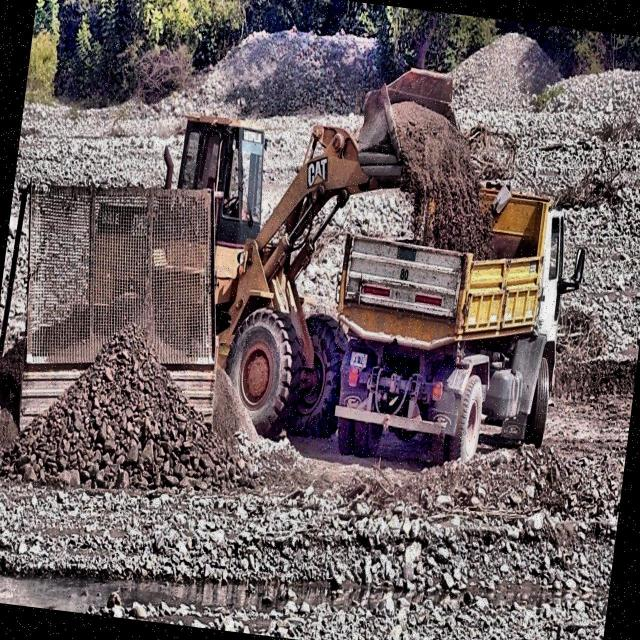dump_truck: (317, 192, 599, 464)
